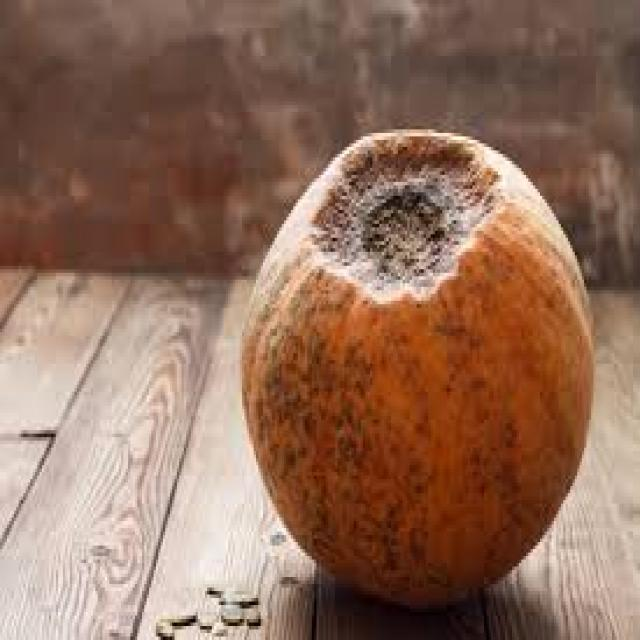organic waste: (235, 126, 591, 605), (163, 605, 191, 630), (149, 612, 177, 637), (210, 602, 238, 622), (214, 588, 258, 598), (240, 608, 260, 630), (191, 605, 209, 626), (200, 581, 221, 591)
